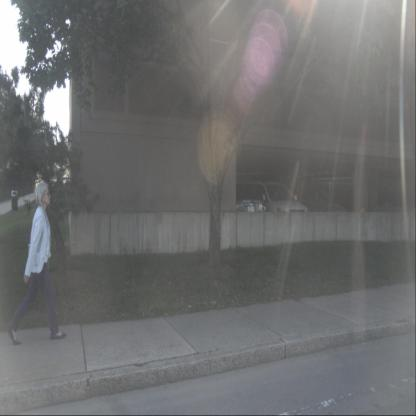human-pedestrian-adult: (7, 182, 67, 346)
vehicle-car: (244, 181, 309, 244), (282, 178, 350, 232), (212, 182, 267, 234)
